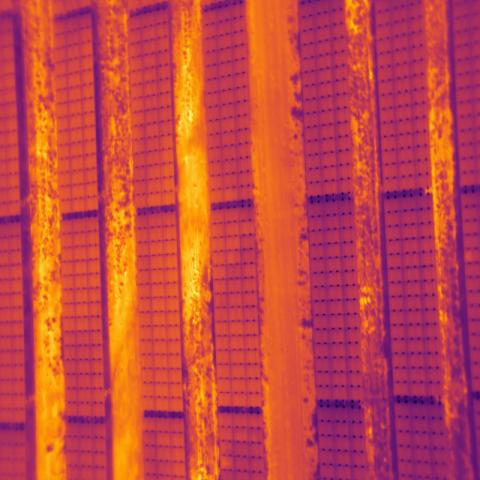fault: (218, 456, 236, 472)
